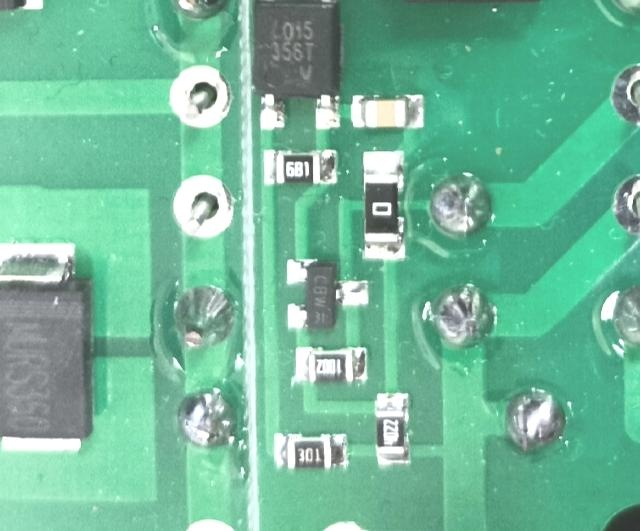chip-capacitor: (349, 91, 426, 131)
chip-resistor: (359, 146, 409, 262), (261, 146, 339, 185), (272, 430, 349, 469), (292, 348, 368, 387), (373, 390, 411, 467)
diode: (0, 240, 96, 455)
ic: (251, 0, 341, 133)
transistor: (283, 256, 369, 332)
